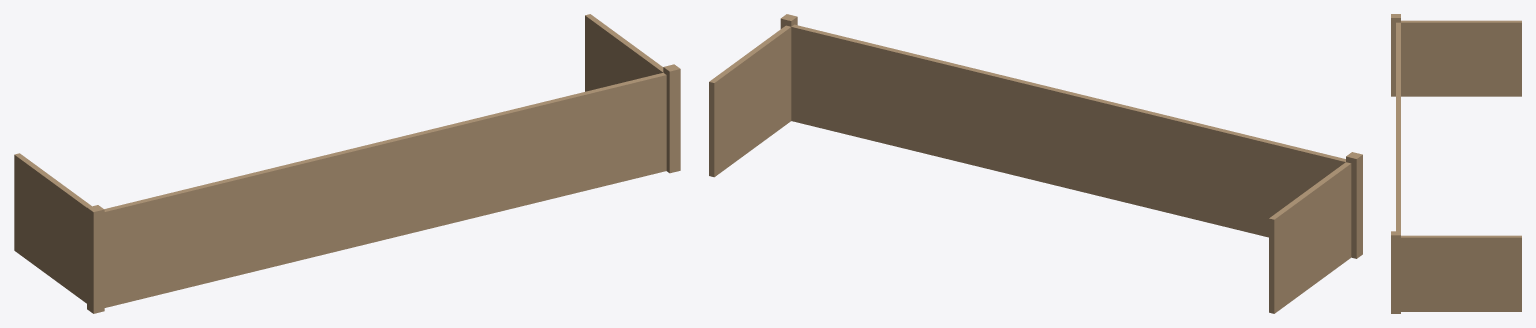
The model's file is SM_Fence_Wide.fbx.
The picture shows the model from 3 angles, left to right: view 1: azimuth 30°, elevation 25°; view 2: azimuth 150°, elevation 25°; view 3: azimuth 270°, elevation 25°; orthographic projection. The views are drawn at different scales.
Visible parts, largest first — view 1: SM_Fence_Wide; view 2: SM_Fence_Wide; view 3: SM_Fence_Wide.
Boxes of the visible parts, left/top/right/bottom form: SM_Fence_Wide: left=14, top=14, right=680, bottom=313; SM_Fence_Wide: left=709, top=14, right=1362, bottom=313; SM_Fence_Wide: left=1391, top=14, right=1521, bottom=313.
Bounding box in the file's own units: 1152 × 191 × 288.
